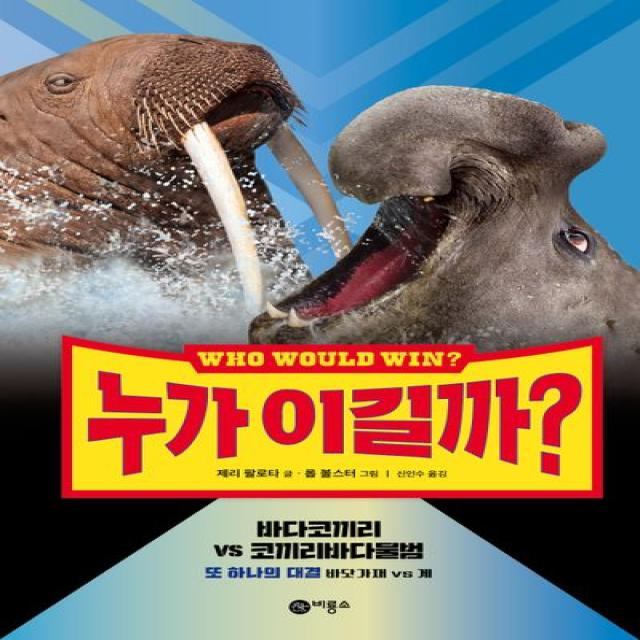walrus: (244, 39, 628, 422), (3, 21, 346, 297)
